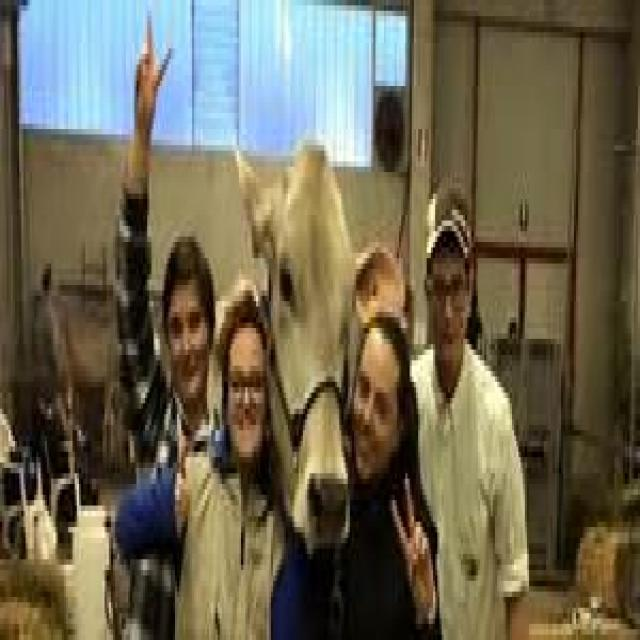cow: (239, 140, 356, 629)
